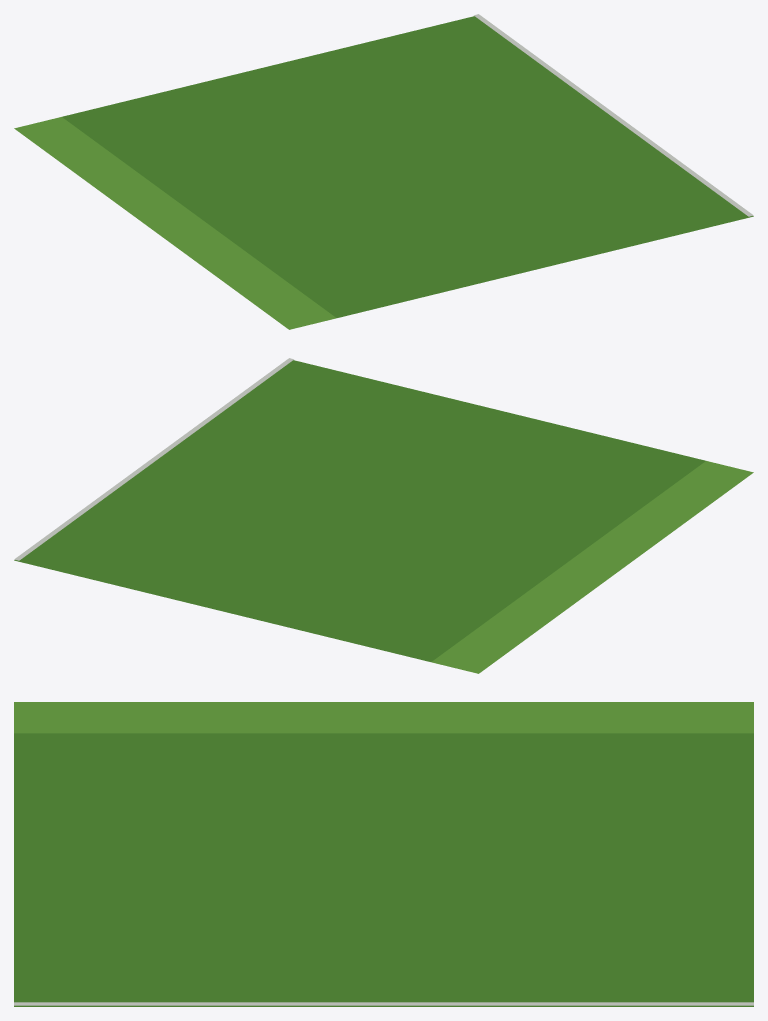
Rendered from pitch_f_5_2.glb.
3 views of the same model, one above another, from view 1: azimuth 30°, elevation 25°; view 2: azimuth 150°, elevation 25°; view 3: azimuth 270°, elevation 25° (orthographic). The views are drawn at different scales.
Parts seen in each view (by area): view 1: pitch_f_5_2; view 2: pitch_f_5_2; view 3: pitch_f_5_2.
Boxes of the visible parts, bbox=[...] form: pitch_f_5_2: bbox=[14, 14, 753, 329]; pitch_f_5_2: bbox=[14, 358, 753, 673]; pitch_f_5_2: bbox=[14, 702, 753, 1006].
Bounding box in the file's own units: 9.75 × 0.02 × 10.
